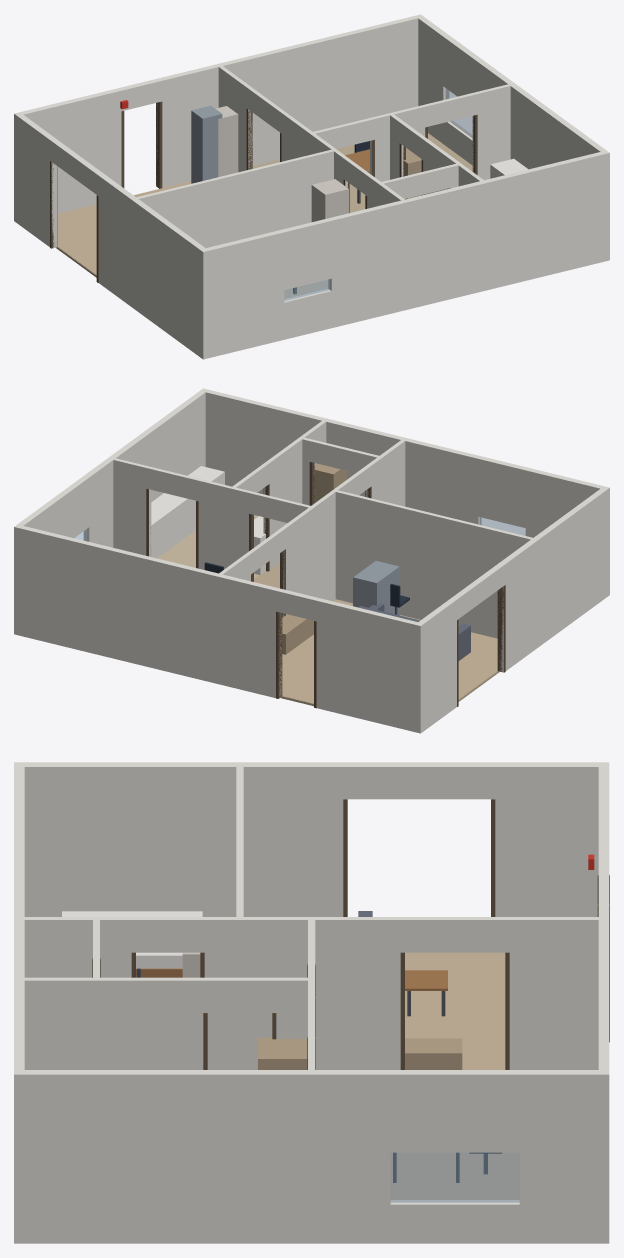
File: apartment-auto.glb
3 views of the same model, one above another, from view 1: azimuth 30°, elevation 25°; view 2: azimuth 150°, elevation 25°; view 3: azimuth 270°, elevation 25° (orthographic). The views are drawn at different scales.
Visible parts, largest first — view 1: wall_south (×2), wall_north (×2), wall_west (×2), wall_wall_2, wall_east (×2), wall_wall_3 (×2), wall_wall_1 (×2), window_4_header, floor_living_room, other_16_body, window_3_header, window_4_sill (+17 smaller); view 2: wall_north (×2), wall_south (×2), wall_west (×2), wall_wall_2, wall_wall_3 (×2), wall_east (×2), wall_wall_1 (×2), floor_living_room, window_4_header, counter_18_body, wall_wall_4, window_3_header (+16 smaller); view 3: wall_east (×2), wall_west (×2), wall_wall_1 (×2), wall_wall_4 (×2), window_3_header, wall_wall_5 (×2), floor_living_room, window_3_glass, floor_dining_room, window_3_sill, door_2_header, wall_north (×2) (+9 smaller).
Boxes of the visible parts, x1,y1,x2,y2 form: wall_south (×2): [199, 150, 609, 359]; wall_north (×2): [14, 14, 423, 222]; wall_west (×2): [17, 114, 205, 356]; wall_wall_2: [136, 149, 333, 247]; wall_east (×2): [418, 17, 606, 169]; wall_wall_3 (×2): [370, 84, 510, 181]; wall_wall_1 (×2): [218, 66, 336, 172]; window_4_header: [281, 218, 331, 289]; floor_living_room: [58, 181, 191, 274]; other_16_body: [191, 105, 222, 183]; window_3_header: [443, 35, 489, 96]; window_4_sill: [284, 289, 331, 339]; wall_north (×2): [14, 524, 424, 733]; wall_south (×2): [200, 388, 609, 596]; wall_west (×2): [418, 488, 606, 730]; wall_wall_2: [335, 490, 532, 638]; wall_wall_3 (×2): [113, 458, 253, 569]; wall_east (×2): [17, 391, 205, 547]; wall_wall_1 (×2): [219, 490, 336, 616]; floor_living_room: [282, 599, 497, 703]; window_4_header: [478, 456, 528, 527]; counter_18_body: [151, 466, 224, 558]; wall_wall_4: [264, 420, 326, 569]; window_3_header: [43, 476, 89, 537]; wall_east (×2): [24, 1070, 598, 1243]; wall_west (×2): [24, 762, 598, 916]; wall_wall_1 (×2): [240, 917, 598, 1069]; wall_wall_4 (×2): [24, 977, 311, 1069]; window_3_header: [390, 1070, 519, 1152]; wall_wall_5 (×2): [24, 917, 239, 1069]; floor_living_room: [405, 952, 505, 1069]; window_3_glass: [390, 1152, 519, 1202]; floor_dining_room: [390, 1152, 519, 1199]; window_3_sill: [390, 1200, 519, 1243]; door_2_header: [347, 762, 490, 799]; wall_north (×2): [598, 762, 609, 1243].
Size of the model in its own units: 10.31 by 2.65 by 8.31.
